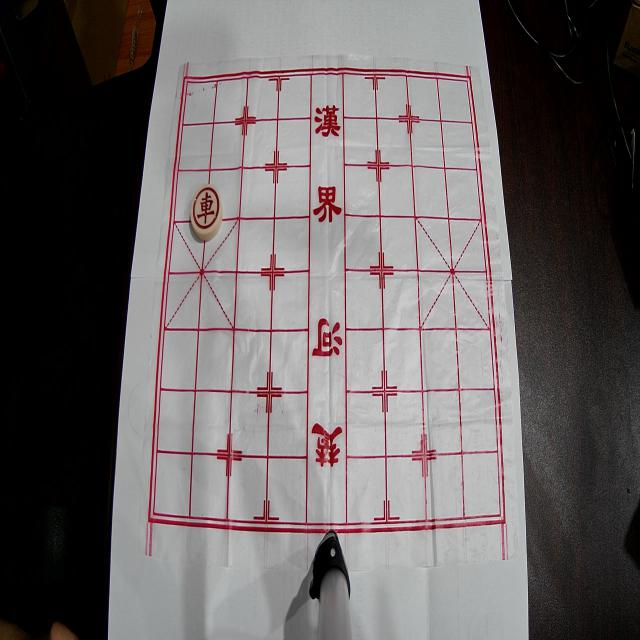red-chariot: (190, 184, 222, 240)
